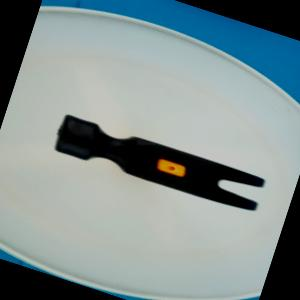martelo: (49, 112, 266, 216)
